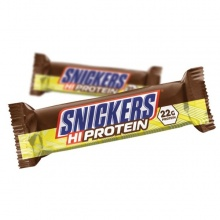snickers: (59, 93, 155, 134), (59, 66, 126, 87), (62, 66, 126, 87)
